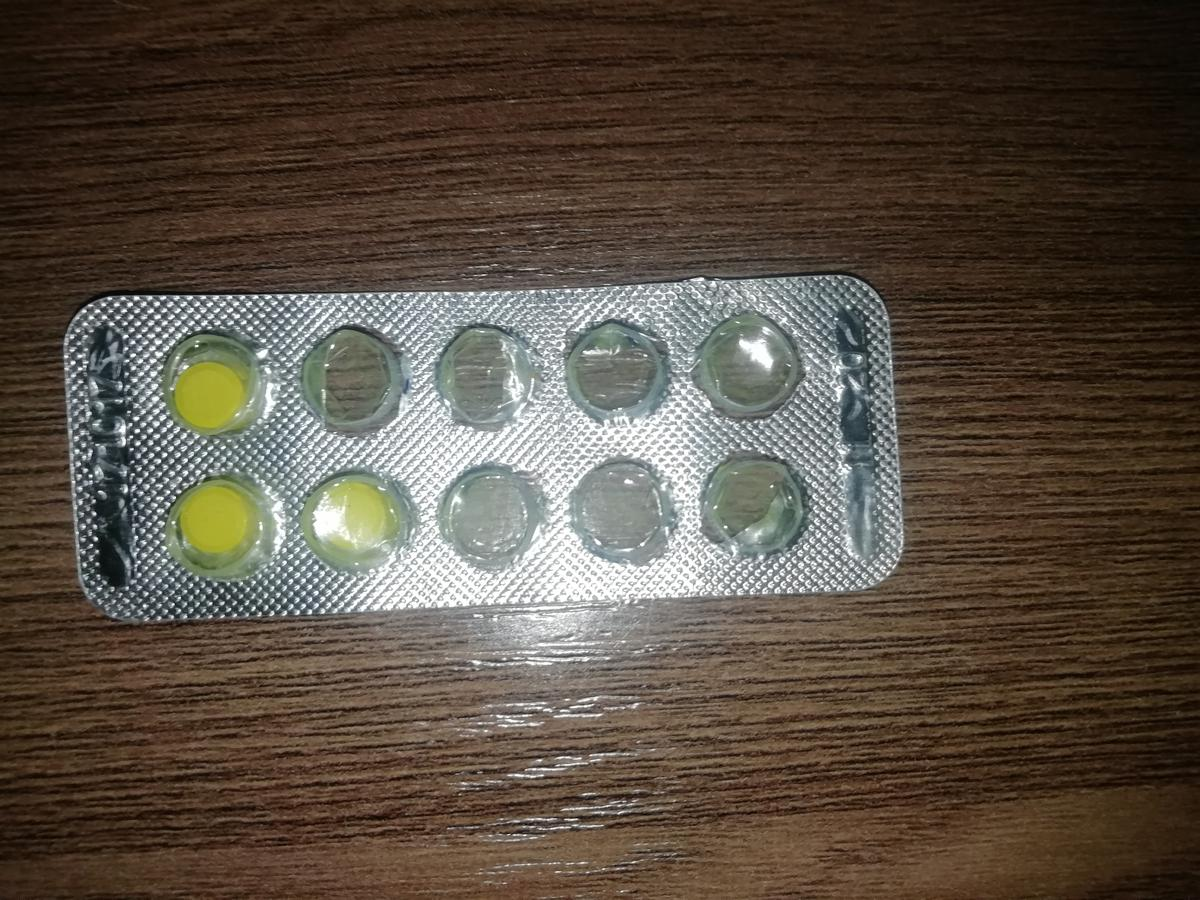tablet: (157, 326, 274, 444), (164, 468, 281, 586), (298, 464, 415, 582)
